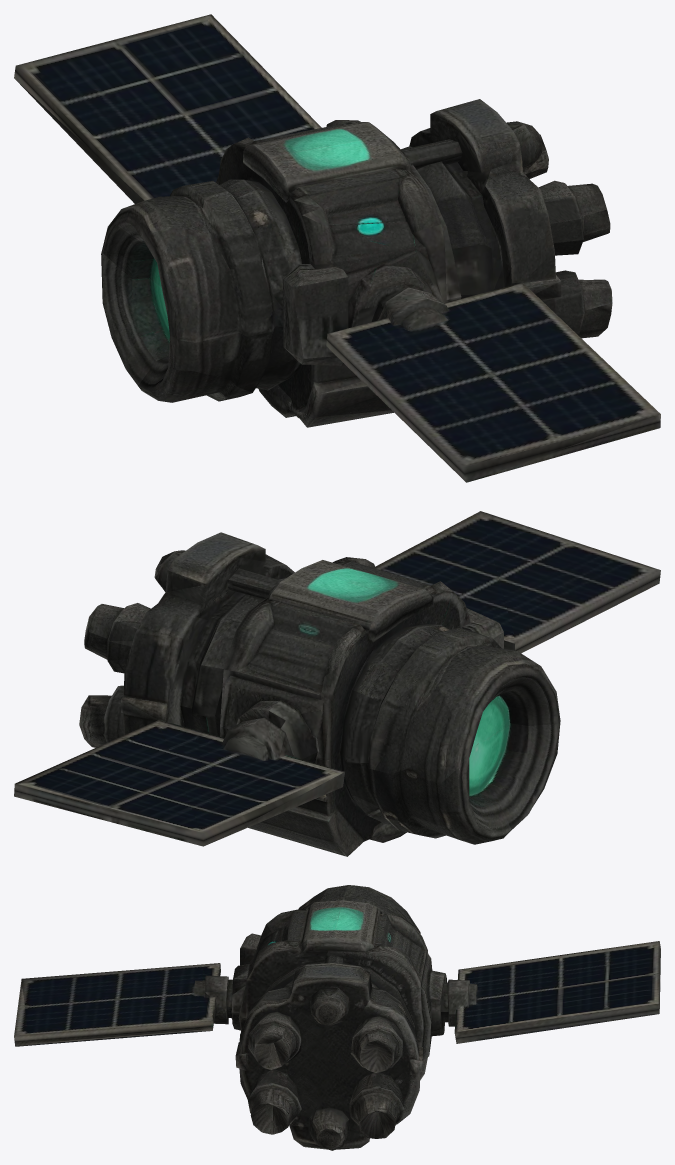
The model's file is sattelite_2.glb.
3 views of the same model, one above another, from view 1: azimuth 30°, elevation 25°; view 2: azimuth 150°, elevation 25°; view 3: azimuth 270°, elevation 25° (orthographic). The views are drawn at different scales.
Visible parts, largest first — view 1: mesh_node; view 2: mesh_node; view 3: mesh_node.
Boxes of the visible parts, x1,y1,x2,y2 form: mesh_node: (14, 14, 660, 482); mesh_node: (14, 511, 660, 856); mesh_node: (14, 885, 660, 1150).
Size of the model in its own units: 0.5332 by 0.2978 by 0.998.
1 material, 1 textured.
